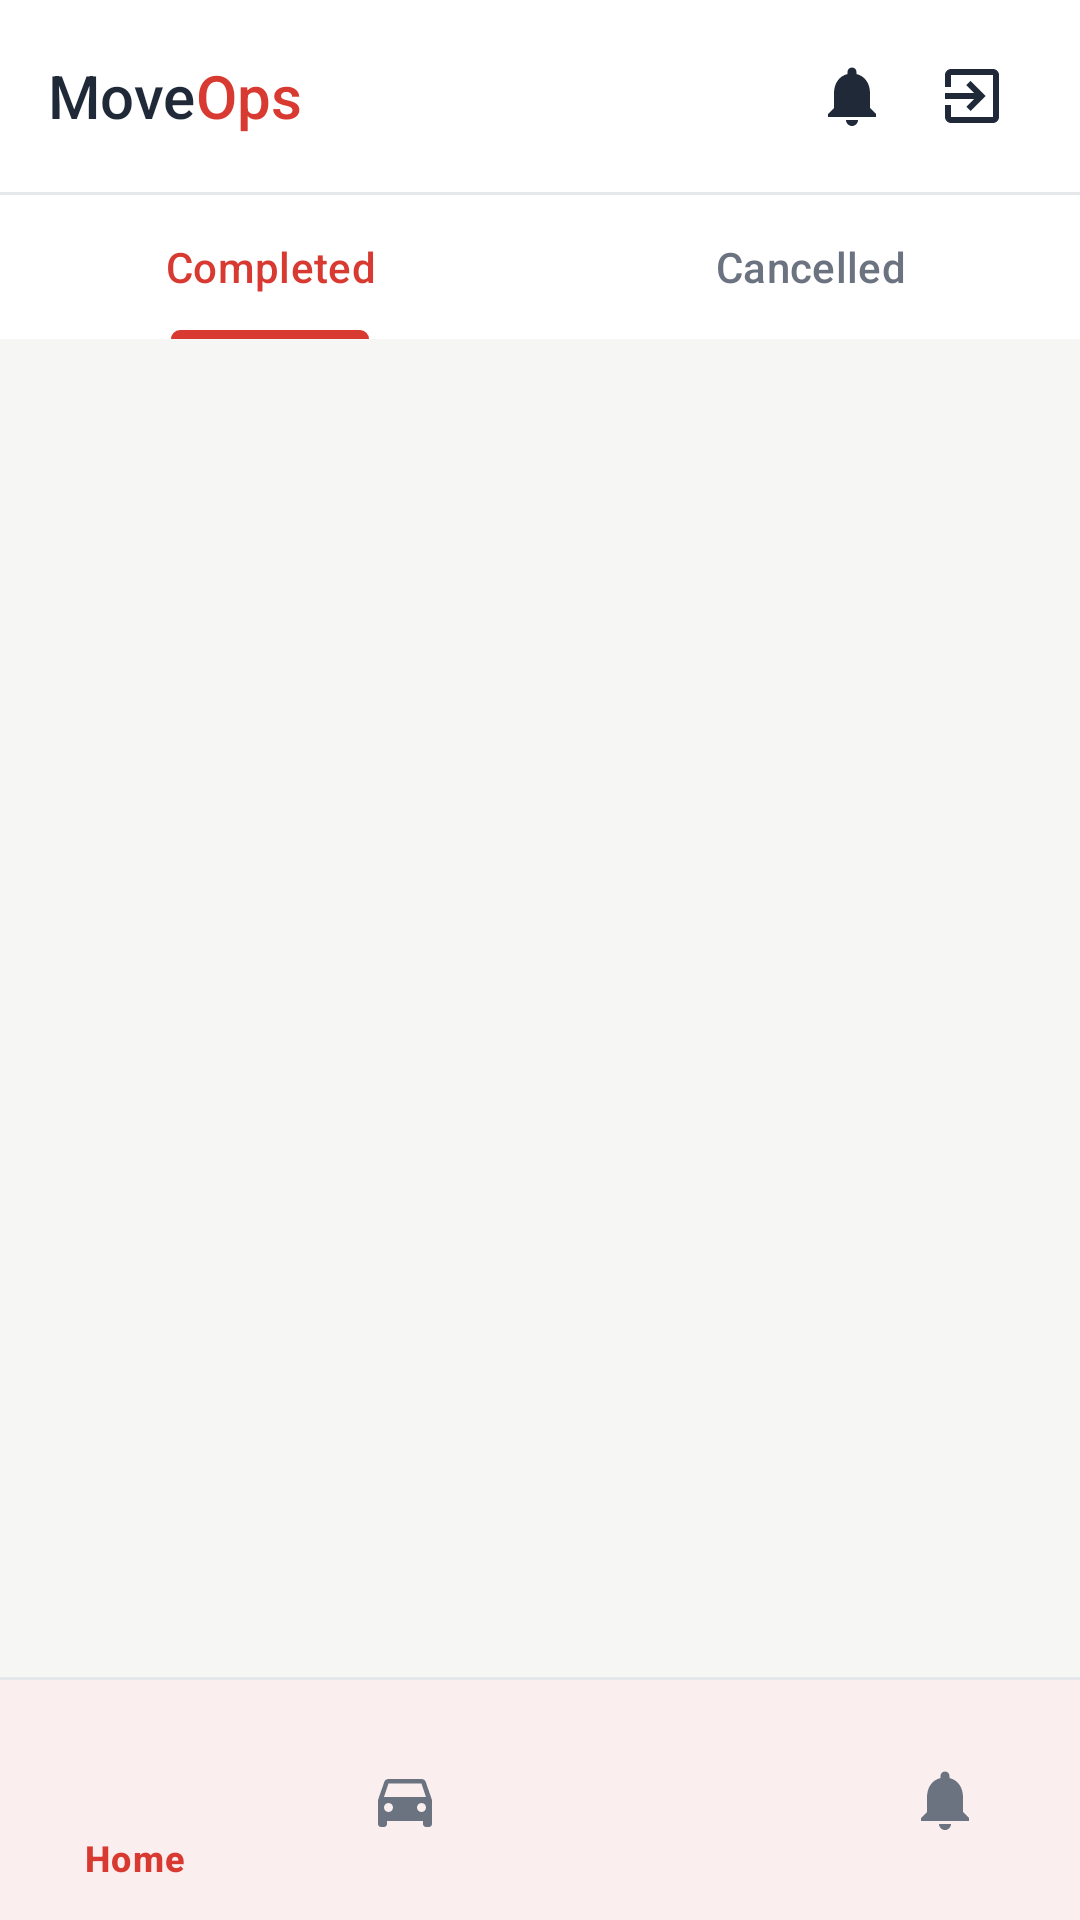

Screen size 1080×1920. Icon name, then its box in pixels as [left=x1, top=y1, right=x2, bottom=y2]:
Notifications: [left=828, top=67, right=876, bottom=126]
